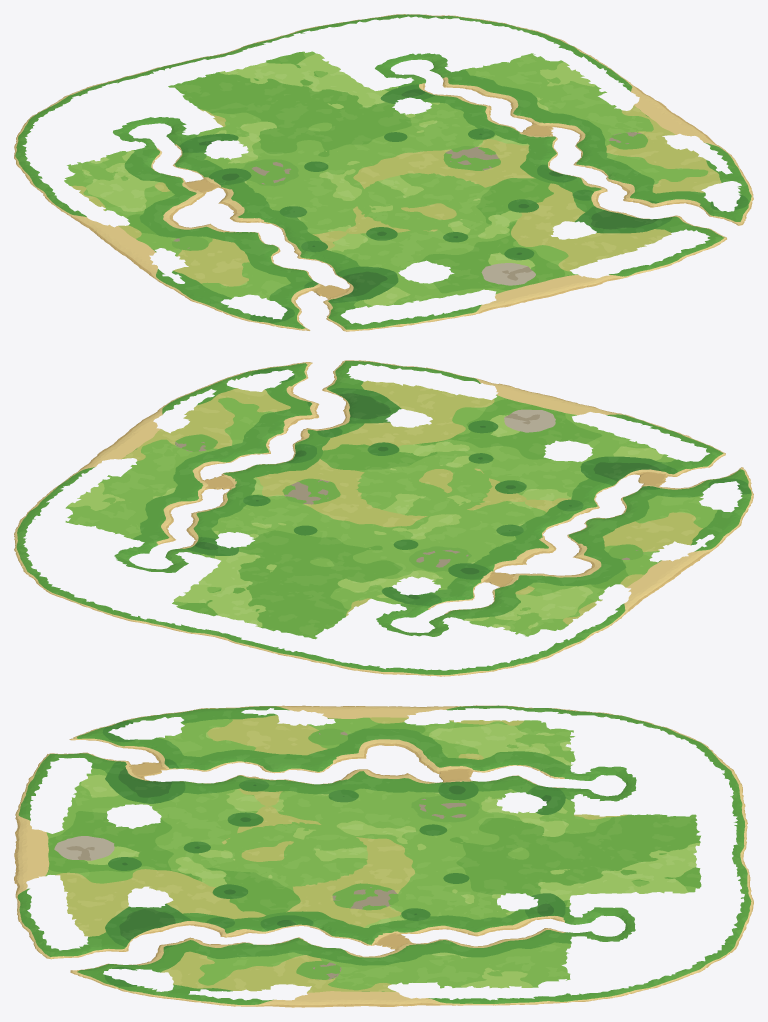
Rendered from Map-4-Ground.fbx.
The picture shows the model from 3 angles, top to bottom: view 1: azimuth 30°, elevation 25°; view 2: azimuth 150°, elevation 25°; view 3: azimuth 270°, elevation 25°; orthographic projection. The views are drawn at different scales.
Parts seen in each view (by area): view 1: Map-4-Ground-c11, Map-4-Ground-c21, Map-4-Ground-c12, Map-4-Ground-c22, Map-4-Ground-c31, Map-4-Ground-c01, Map-4-Ground-c20, Map-4-Ground-c10, Map-4-Ground-c32, Map-4-Ground-c02, Map-4-Ground-c23, Map-4-Ground-c13 (+4 smaller); view 2: Map-4-Ground-c11, Map-4-Ground-c21, Map-4-Ground-c12, Map-4-Ground-c22, Map-4-Ground-c31, Map-4-Ground-c01, Map-4-Ground-c20, Map-4-Ground-c10, Map-4-Ground-c32, Map-4-Ground-c02, Map-4-Ground-c13, Map-4-Ground-c23 (+4 smaller); view 3: Map-4-Ground-c21, Map-4-Ground-c11, Map-4-Ground-c22, Map-4-Ground-c12, Map-4-Ground-c31, Map-4-Ground-c01, Map-4-Ground-c20, Map-4-Ground-c10, Map-4-Ground-c32, Map-4-Ground-c02, Map-4-Ground-c23, Map-4-Ground-c13 (+4 smaller).
Part boxes in pixels (left/top/right/bottom): Map-4-Ground-c11: left=230, top=172, right=474, bottom=274; Map-4-Ground-c21: left=383, top=135, right=634, bottom=239; Map-4-Ground-c12: left=139, top=104, right=382, bottom=210; Map-4-Ground-c22: left=292, top=67, right=542, bottom=171; Map-4-Ground-c31: left=543, top=105, right=743, bottom=201; Map-4-Ground-c01: left=105, top=218, right=312, bottom=306; Map-4-Ground-c20: left=476, top=202, right=702, bottom=296; Map-4-Ground-c10: left=325, top=240, right=551, bottom=328; Map-4-Ground-c32: left=459, top=40, right=663, bottom=134; Map-4-Ground-c02: left=22, top=149, right=202, bottom=241; Map-4-Ground-c23: left=220, top=16, right=447, bottom=104; Map-4-Ground-c13: left=65, top=54, right=291, bottom=142; Map-4-Ground-c11: left=384, top=450, right=625, bottom=555; Map-4-Ground-c21: left=225, top=412, right=475, bottom=517; Map-4-Ground-c12: left=291, top=518, right=533, bottom=621; Map-4-Ground-c22: left=138, top=479, right=383, bottom=584; Map-4-Ground-c31: left=103, top=386, right=315, bottom=479; Map-4-Ground-c01: left=551, top=490, right=743, bottom=586; Map-4-Ground-c20: left=339, top=363, right=550, bottom=449; Map-4-Ground-c10: left=477, top=396, right=700, bottom=485; Map-4-Ground-c32: left=20, top=450, right=224, bottom=540; Map-4-Ground-c02: left=458, top=568, right=661, bottom=651; Map-4-Ground-c13: left=220, top=584, right=448, bottom=674; Map-4-Ground-c23: left=63, top=546, right=290, bottom=638; Map-4-Ground-c21: left=180, top=853, right=384, bottom=941; Map-4-Ground-c11: left=180, top=768, right=384, bottom=854; Map-4-Ground-c22: left=383, top=853, right=587, bottom=941; Map-4-Ground-c12: left=383, top=768, right=587, bottom=854; Map-4-Ground-c31: left=180, top=940, right=384, bottom=1007; Map-4-Ground-c01: left=180, top=705, right=384, bottom=770; Map-4-Ground-c20: left=14, top=853, right=181, bottom=941; Map-4-Ground-c10: left=14, top=768, right=181, bottom=855; Map-4-Ground-c32: left=382, top=939, right=587, bottom=1006; Map-4-Ground-c02: left=383, top=705, right=587, bottom=770; Map-4-Ground-c23: left=585, top=853, right=753, bottom=941; Map-4-Ground-c13: left=585, top=768, right=747, bottom=855.
Bounding box in the file's own units: 176 × 0.49 × 182.
